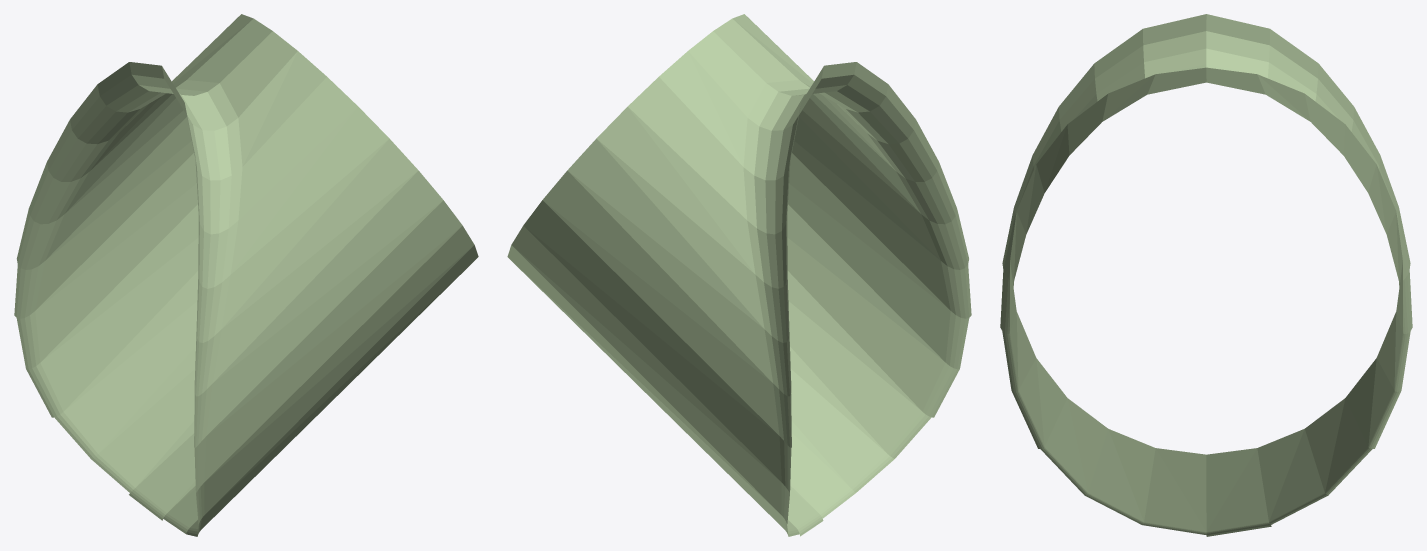
Rendered from original-22.obj.
3 renders of one model, left to right at view 1: azimuth 30°, elevation 25°; view 2: azimuth 150°, elevation 25°; view 3: azimuth 270°, elevation 25°, orthographic. The views are drawn at different scales.
Parts seen in each view (by area): view 1: mesh22/mesh22-geometry#mesh22-geometry; view 2: mesh22/mesh22-geometry#mesh22-geometry; view 3: mesh22/mesh22-geometry#mesh22-geometry.
Part boxes in pixels (<box>): mesh22/mesh22-geometry#mesh22-geometry: <box>14,14,478,536</box>; mesh22/mesh22-geometry#mesh22-geometry: <box>507,14,971,536</box>; mesh22/mesh22-geometry#mesh22-geometry: <box>1000,14,1412,536</box>.
Bounding box in the file's own units: 0.2673 × 0.3489 × 0.2455.
